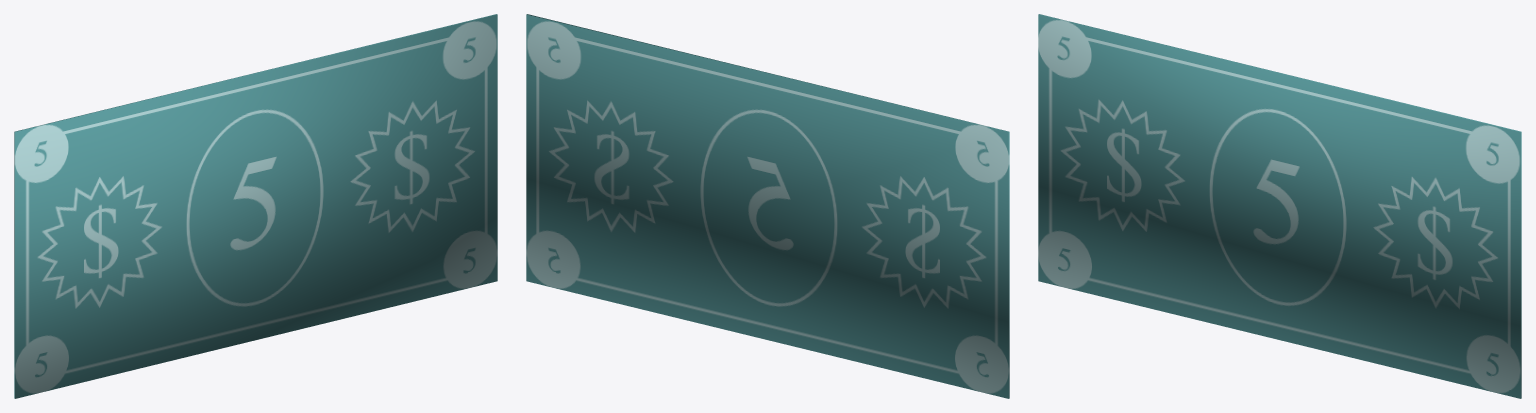
The model's file is 5dollar.gltf.
3 views of the same model, side by side, from view 1: azimuth 30°, elevation 25°; view 2: azimuth 150°, elevation 25°; view 3: azimuth 330°, elevation 25° (orthographic).
Visible parts, largest first — view 1: node-0; view 2: node-0; view 3: node-0.
Part boxes in pixels (<box>): node-0: <box>14,14,497,398</box>; node-0: <box>526,14,1009,398</box>; node-0: <box>1038,14,1521,398</box>.
Size of the model in its own units: 253 by 133 by 0.8561.
1 material, 1 textured.
